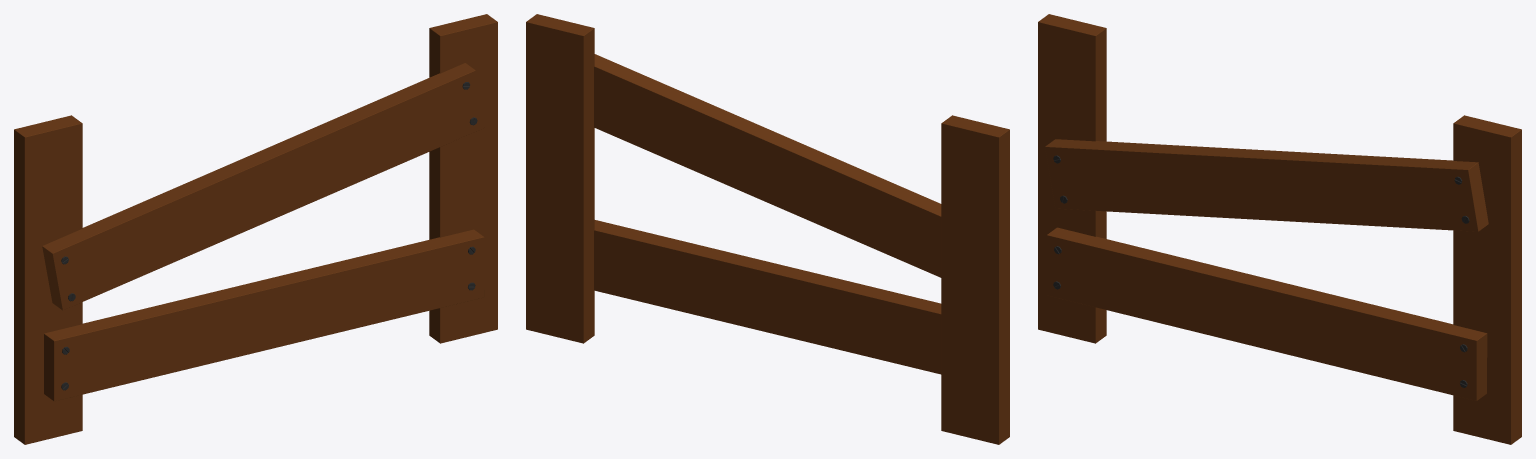
The model's file is fence4.obj.
3 renders of one model, left to right at view 1: azimuth 30°, elevation 25°; view 2: azimuth 150°, elevation 25°; view 3: azimuth 330°, elevation 25°, orthographic.
Parts seen in each view (by area): view 1: Fence4; view 2: Fence4; view 3: Fence4.
Boxes of the visible parts, x1,y1,x2,y2 form: Fence4: (14,14,497,444); Fence4: (526,14,1009,444); Fence4: (1038,14,1521,444).
Bounding box in the file's own units: 3.51 × 2.18 × 0.2806.
